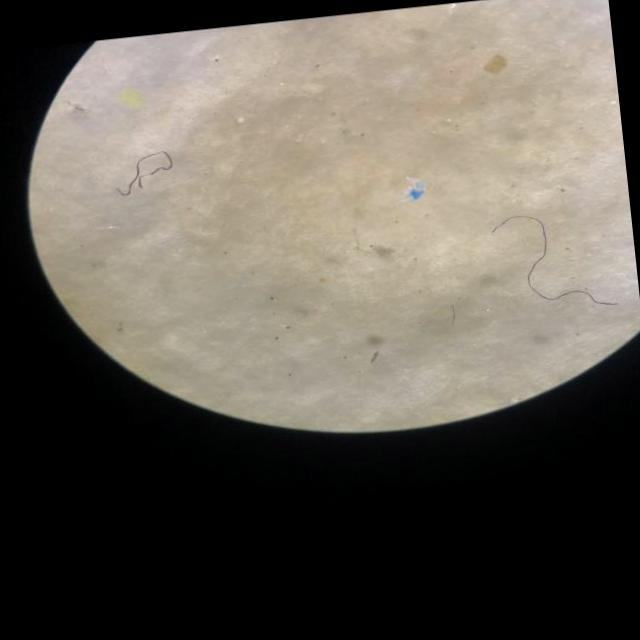fiber: (493, 215, 613, 303), (116, 151, 172, 195)
film: (404, 177, 424, 198)
fragment: (483, 54, 506, 72), (120, 90, 143, 107)
pellet: (236, 116, 244, 122)
